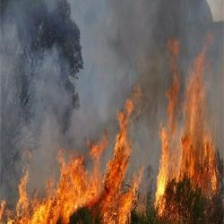fire: (3, 82, 219, 224)
smoke: (8, 1, 117, 139)
